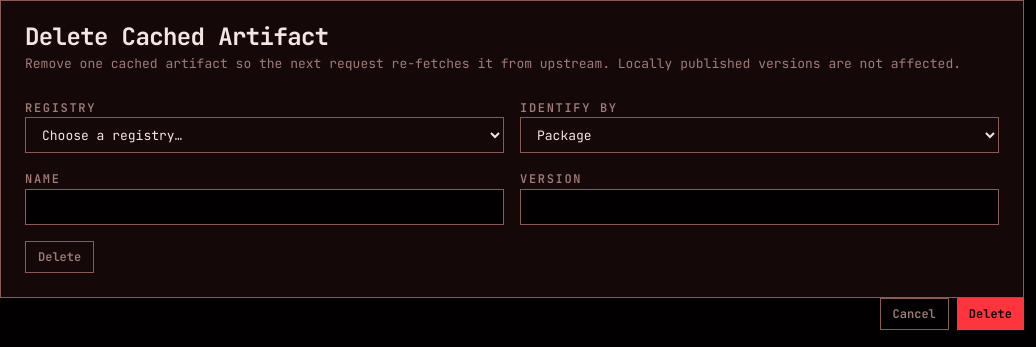
it: DeleteCachedArtifact › keeps Delete disabled until a registry and a full coordinate are given
This screenshot has width=1036, height=347.
Check: the button "Delete" below "Name" is disabled, box x1=25 y1=241 x2=94 y2=273
Select "npm" in the dropdown with id "del-registry" at {"x": 264, "y": 135}, box x1=25 y1=117 x2=504 y2=153
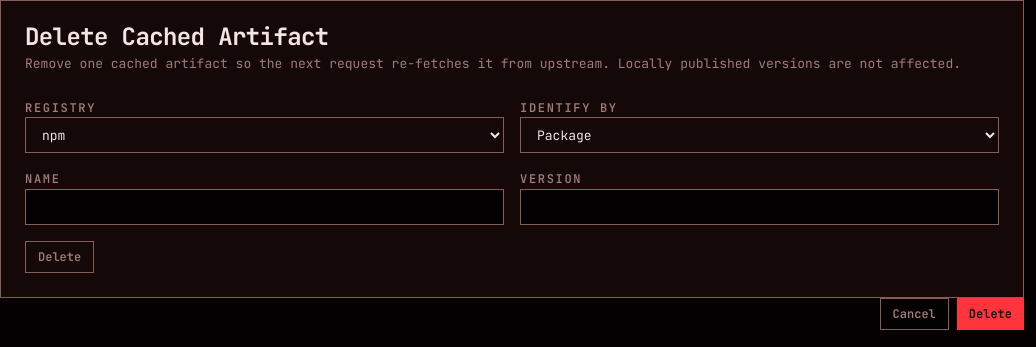
Check: the button "Delete" below "Name" is disabled, box x1=25 y1=241 x2=94 y2=273
Type "lodash" into the field with id "del-name".
click(264, 207); type("lodash")  # box x1=25 y1=189 x2=504 y2=225
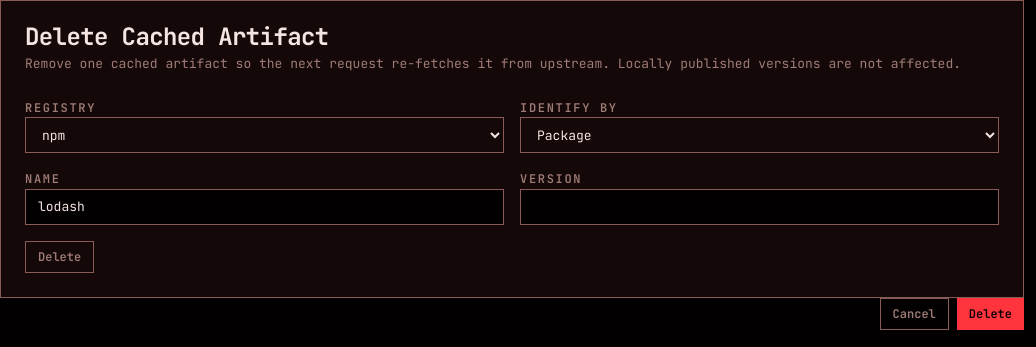
Check: the button "Delete" below "Name" is disabled, box x1=25 y1=241 x2=94 y2=273
Type "4.17.21" into the field with id "del-version".
click(760, 207); type("4.17.21")  # box x1=520 y1=189 x2=999 y2=225
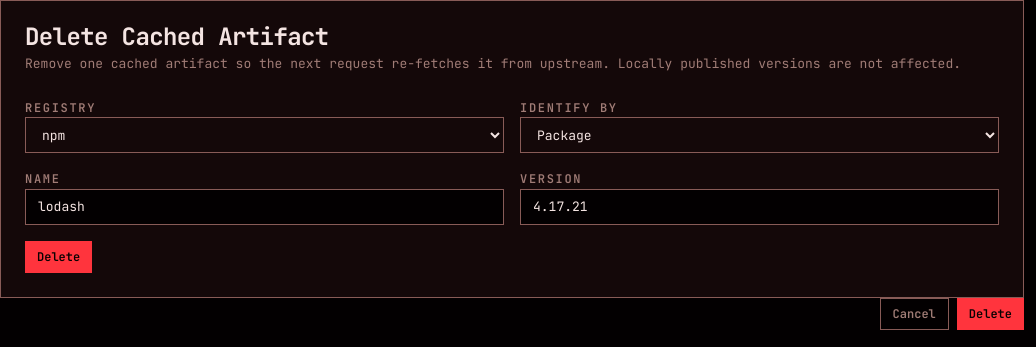
Check: the button "Delete" below "Name" is enabled, box x1=25 y1=241 x2=92 y2=273
